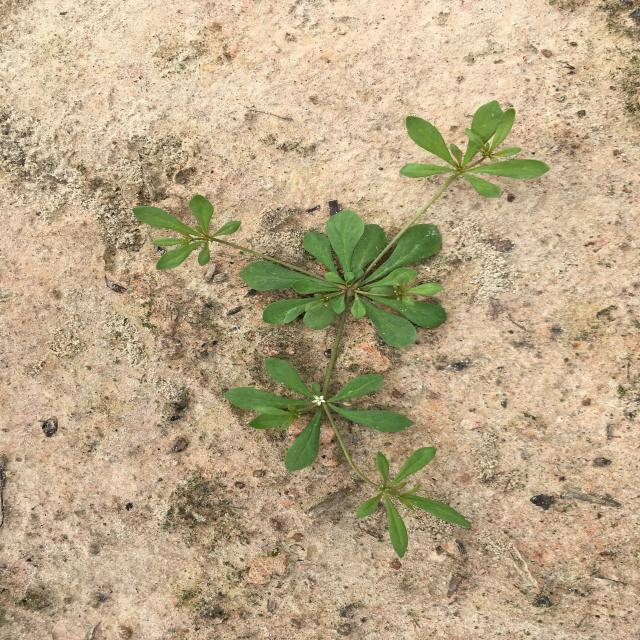Carpetweed: (132, 100, 550, 559)
